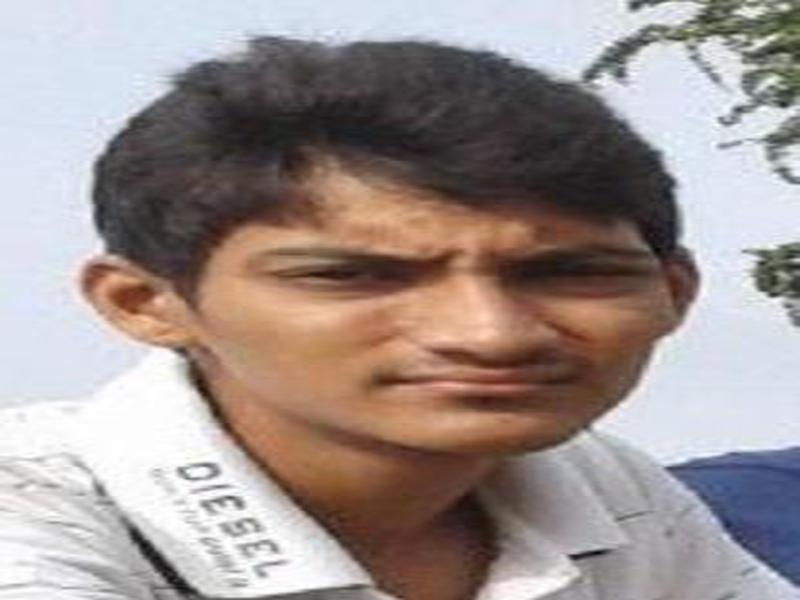without_mask: (212, 165, 659, 463)
